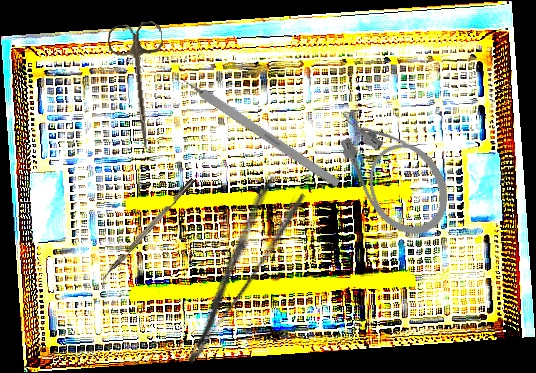Cannula: (321, 86, 464, 249)
Chopper: (95, 177, 201, 290)
Dressing Forceps: (156, 171, 310, 368)
Hook Surgical: (169, 67, 341, 189)
Iris Scissors: (106, 20, 176, 152)
